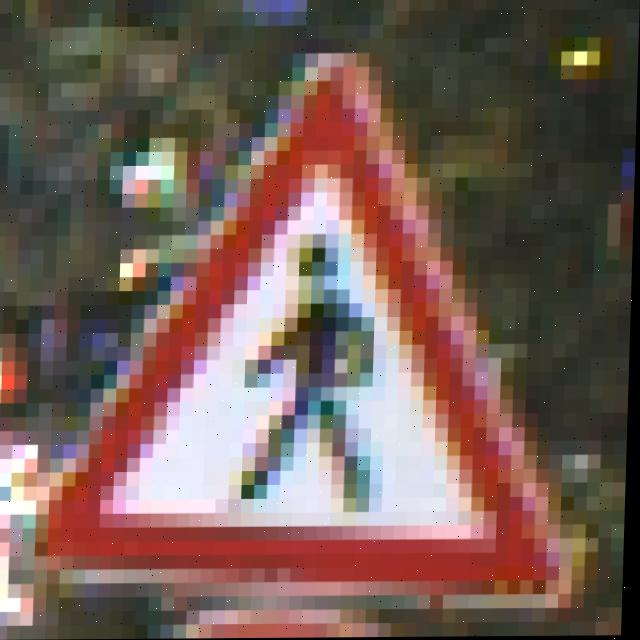crosswalk: (96, 68, 578, 614)
